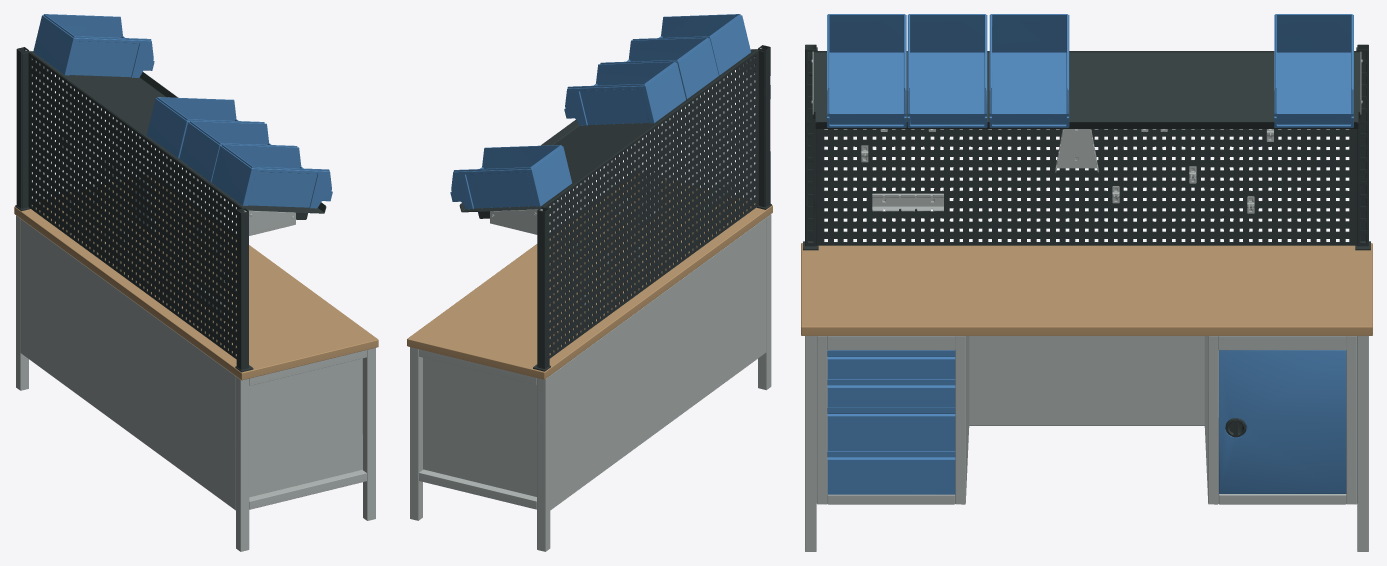
Rendered from furniture_workbench_standard_e01.glb.
The picture shows the model from 3 angles, left to right: view 1: azimuth 30°, elevation 25°; view 2: azimuth 150°, elevation 25°; view 3: azimuth 270°, elevation 25°; orthographic projection. The views are drawn at different scales.
Visible parts, largest first — view 1: furniture_workbench_standard_e01; view 2: furniture_workbench_standard_e01; view 3: furniture_workbench_standard_e01.
Boxes of the visible parts, x1,y1,x2,y2 form: furniture_workbench_standard_e01: (14, 14, 378, 551); furniture_workbench_standard_e01: (407, 14, 772, 551); furniture_workbench_standard_e01: (801, 14, 1372, 551).
Bounding box in the file's own units: 0.5331 × 1.38 × 1.53.
